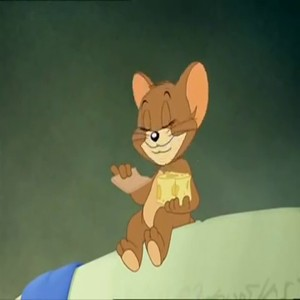Jerry: (100, 59, 210, 265)
